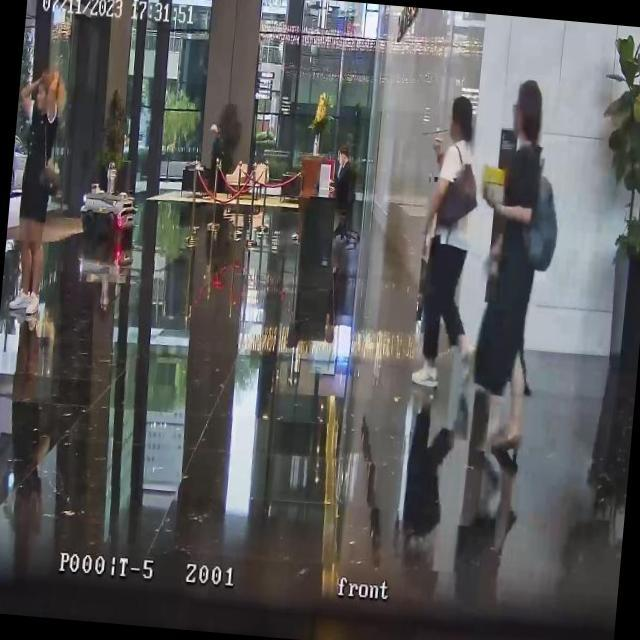person: (462, 77, 560, 402), (410, 94, 494, 392), (0, 65, 68, 320), (203, 123, 228, 200), (329, 141, 358, 202)
